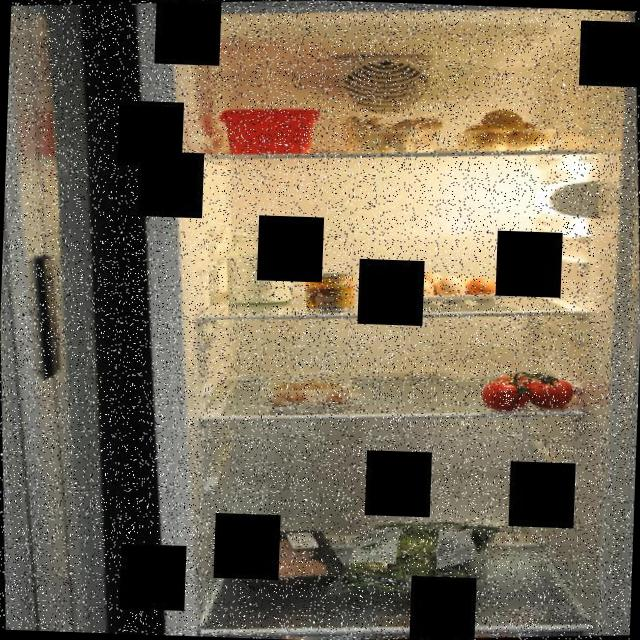Carne pollo: (235, 528, 335, 590)
Champiñones: (338, 108, 446, 157)
Gambas/Langostinos: (264, 372, 353, 414)
Huevos: (398, 265, 500, 309)
Mantequilla: (215, 102, 324, 160)
Tomate: (476, 365, 576, 414)
corn: (304, 269, 356, 315)
spinach: (326, 514, 504, 606)
sugar: (220, 218, 299, 308)
sweet_potato: (451, 104, 557, 158)
